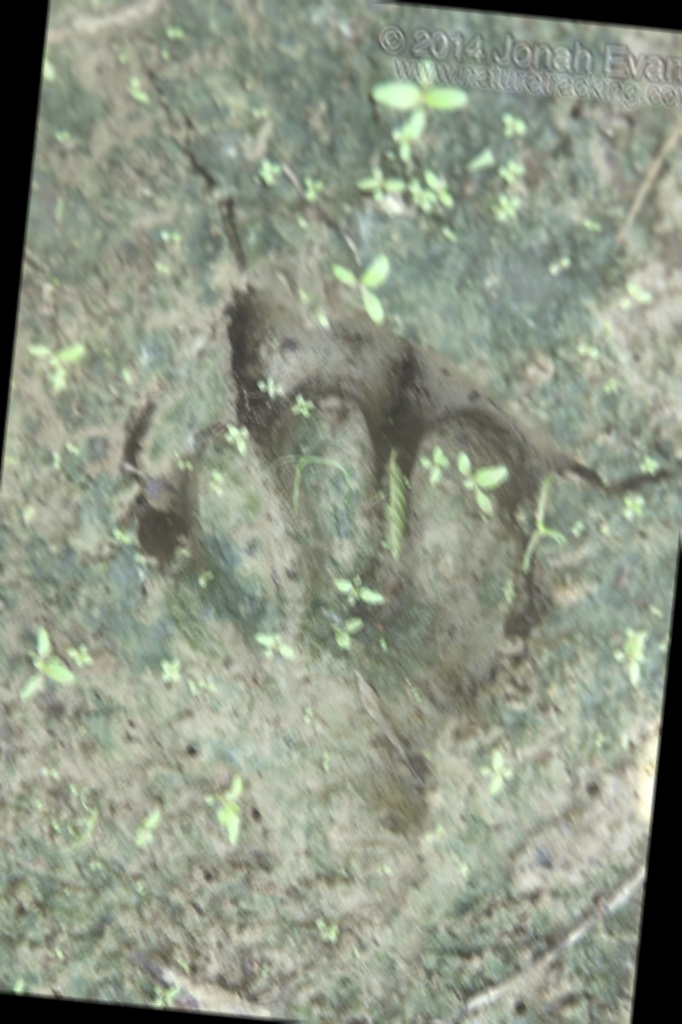beaver: (45, 264, 636, 887)
